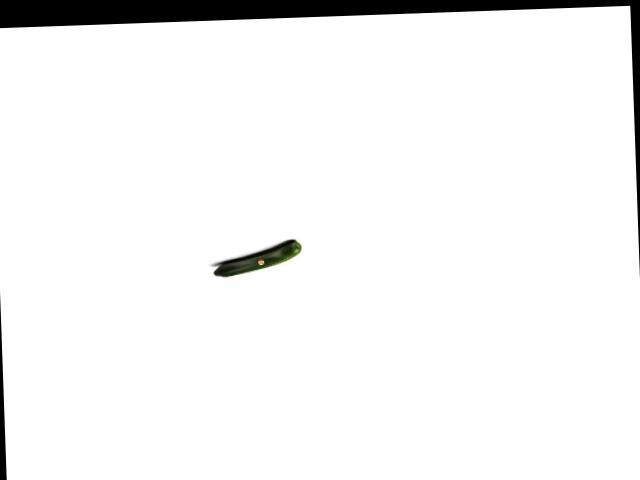cucumber: (213, 240, 303, 276)
